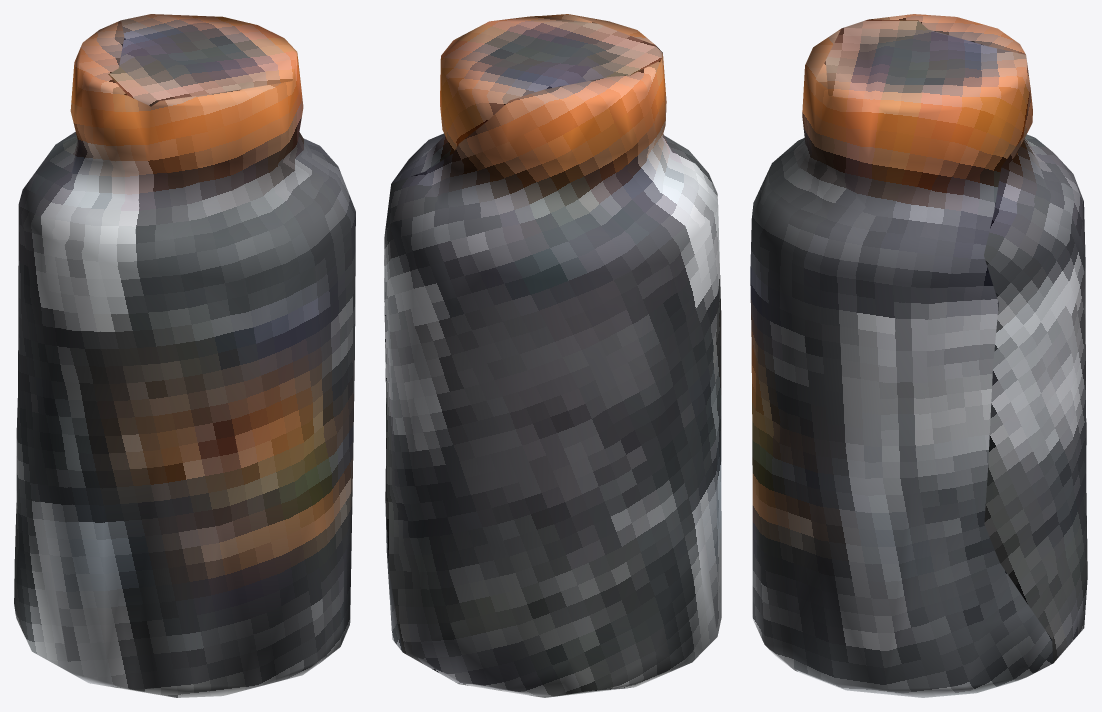
File: Twinlab_Nitric_Fuel-low.glb
3 renders of one model, left to right at view 1: azimuth 30°, elevation 25°; view 2: azimuth 150°, elevation 25°; view 3: azimuth 270°, elevation 25°, orthographic.
Parts seen in each view (by area): view 1: Twinlab_Nitric_Fuel; view 2: Twinlab_Nitric_Fuel; view 3: Twinlab_Nitric_Fuel.
Part boxes in pixels (bbox=[...]): Twinlab_Nitric_Fuel: bbox=[14, 14, 355, 697]; Twinlab_Nitric_Fuel: bbox=[384, 14, 721, 697]; Twinlab_Nitric_Fuel: bbox=[750, 14, 1087, 697].
Bounding box in the file's own units: 0.0594 × 0.1132 × 0.0593.
1 material, 1 textured.
